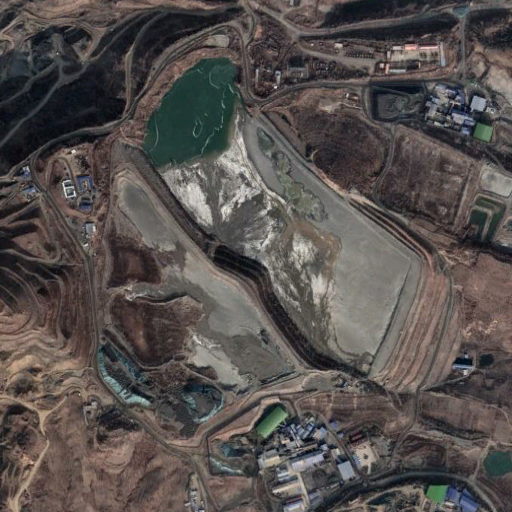tp: (103, 52, 467, 414)
